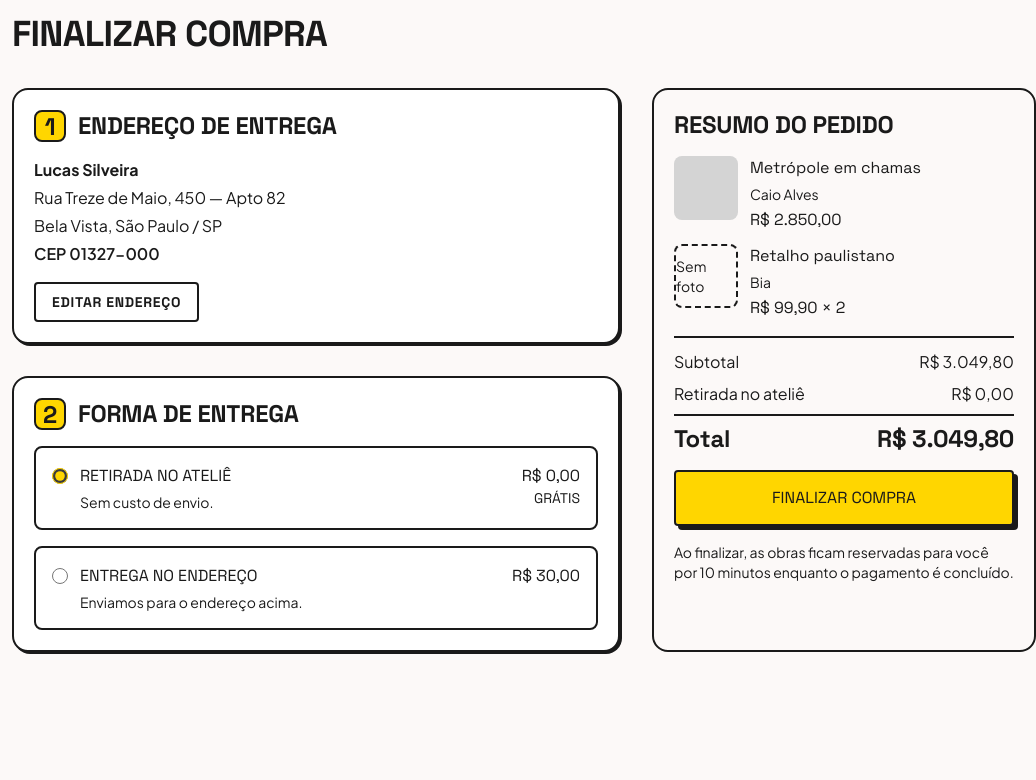
it: RF12 recusa aparece na tela; com obra indisponível, oferece voltar ao carrinho
The width and height of the screenshot is (1036, 780).
Click the button "Finalizar compra".
click(844, 498)  # box x1=674 y1=470 x2=1014 y2=526
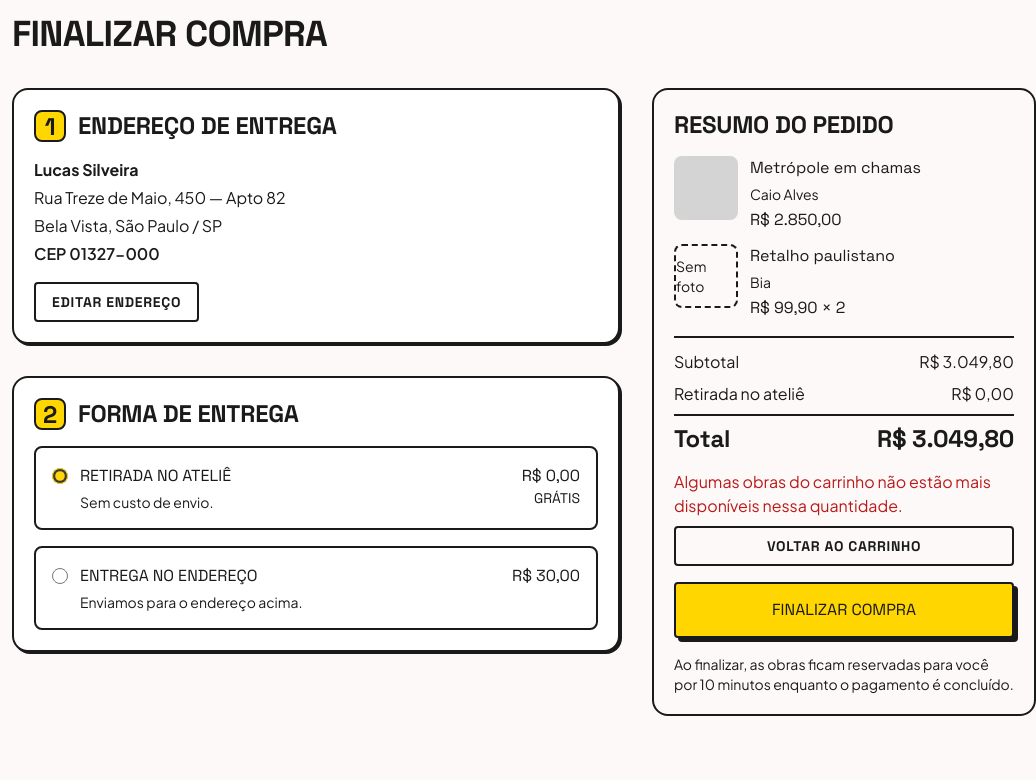
Expected: the message shows "não estão mais disponíveis", x1=674 y1=471 x2=991 y2=516
